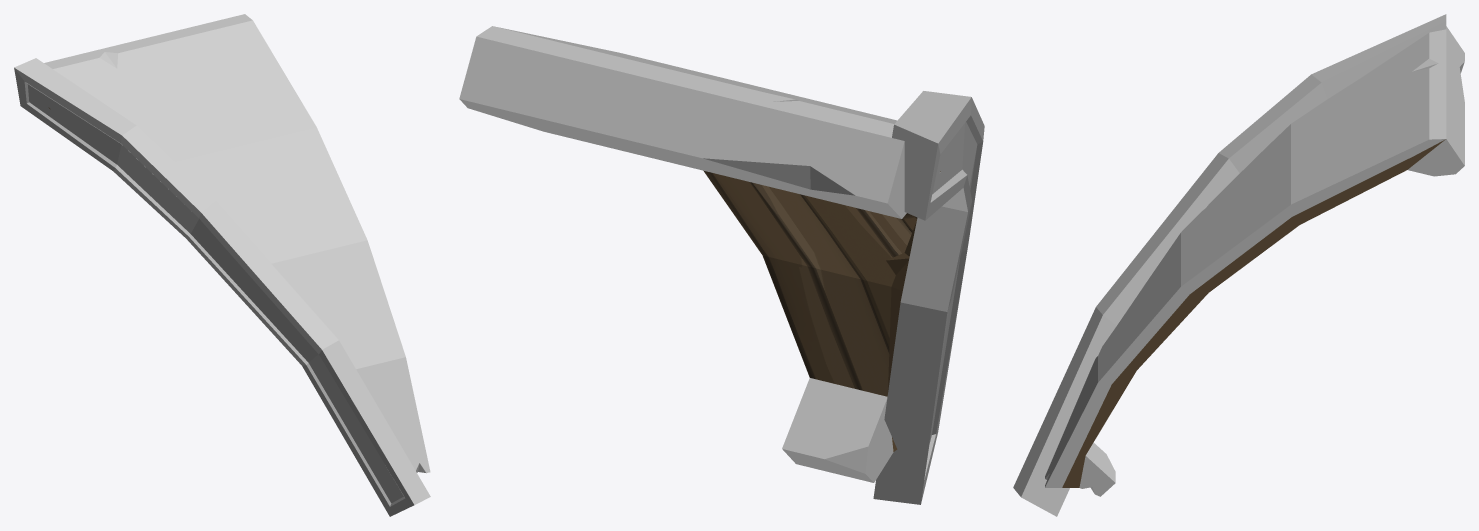
File: SM_Bld_House_Roof_Curved_End_01.fbx
3 renders of one model, left to right at view 1: azimuth 30°, elevation 25°; view 2: azimuth 150°, elevation 25°; view 3: azimuth 270°, elevation 25°, orthographic. The views are drawn at different scales.
Visible parts, largest first — view 1: SM_Bld_House_Roof_Curved_End_01; view 2: SM_Bld_House_Roof_Curved_End_01; view 3: SM_Bld_House_Roof_Curved_End_01.
Boxes of the visible parts, x1=… form: SM_Bld_House_Roof_Curved_End_01: x1=14, y1=14, x2=430, y2=516; SM_Bld_House_Roof_Curved_End_01: x1=459, y1=26, x2=984, y2=504; SM_Bld_House_Roof_Curved_End_01: x1=1013, y1=14, x2=1464, y2=516.
Bounding box in the file's own units: 225 × 341 × 353.
